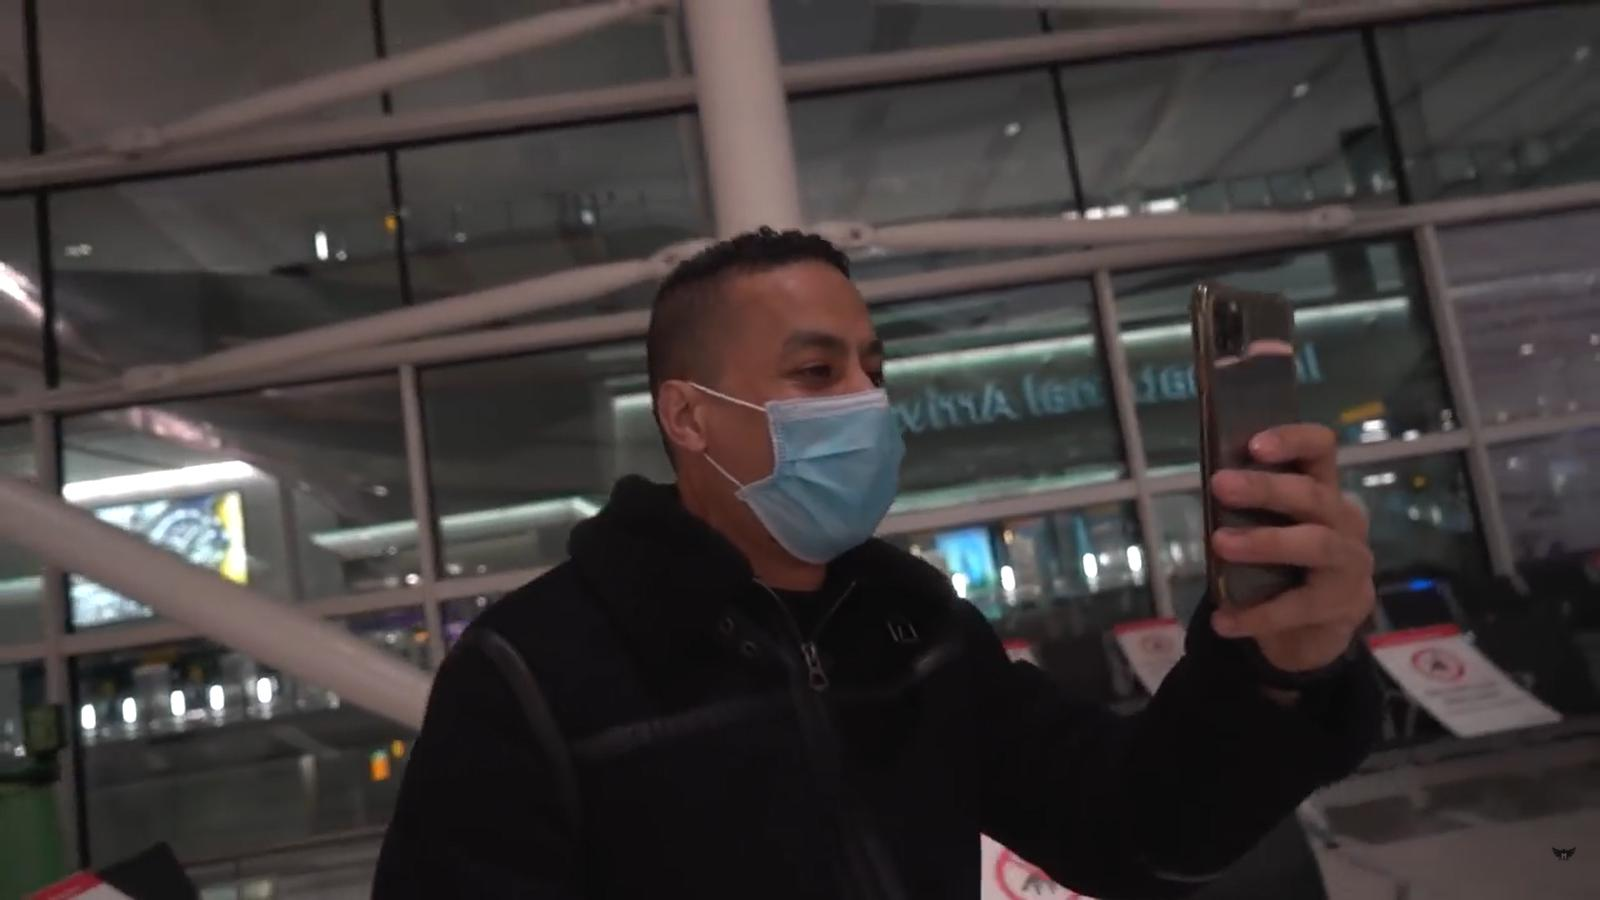with_mask: (745, 327, 876, 508)
